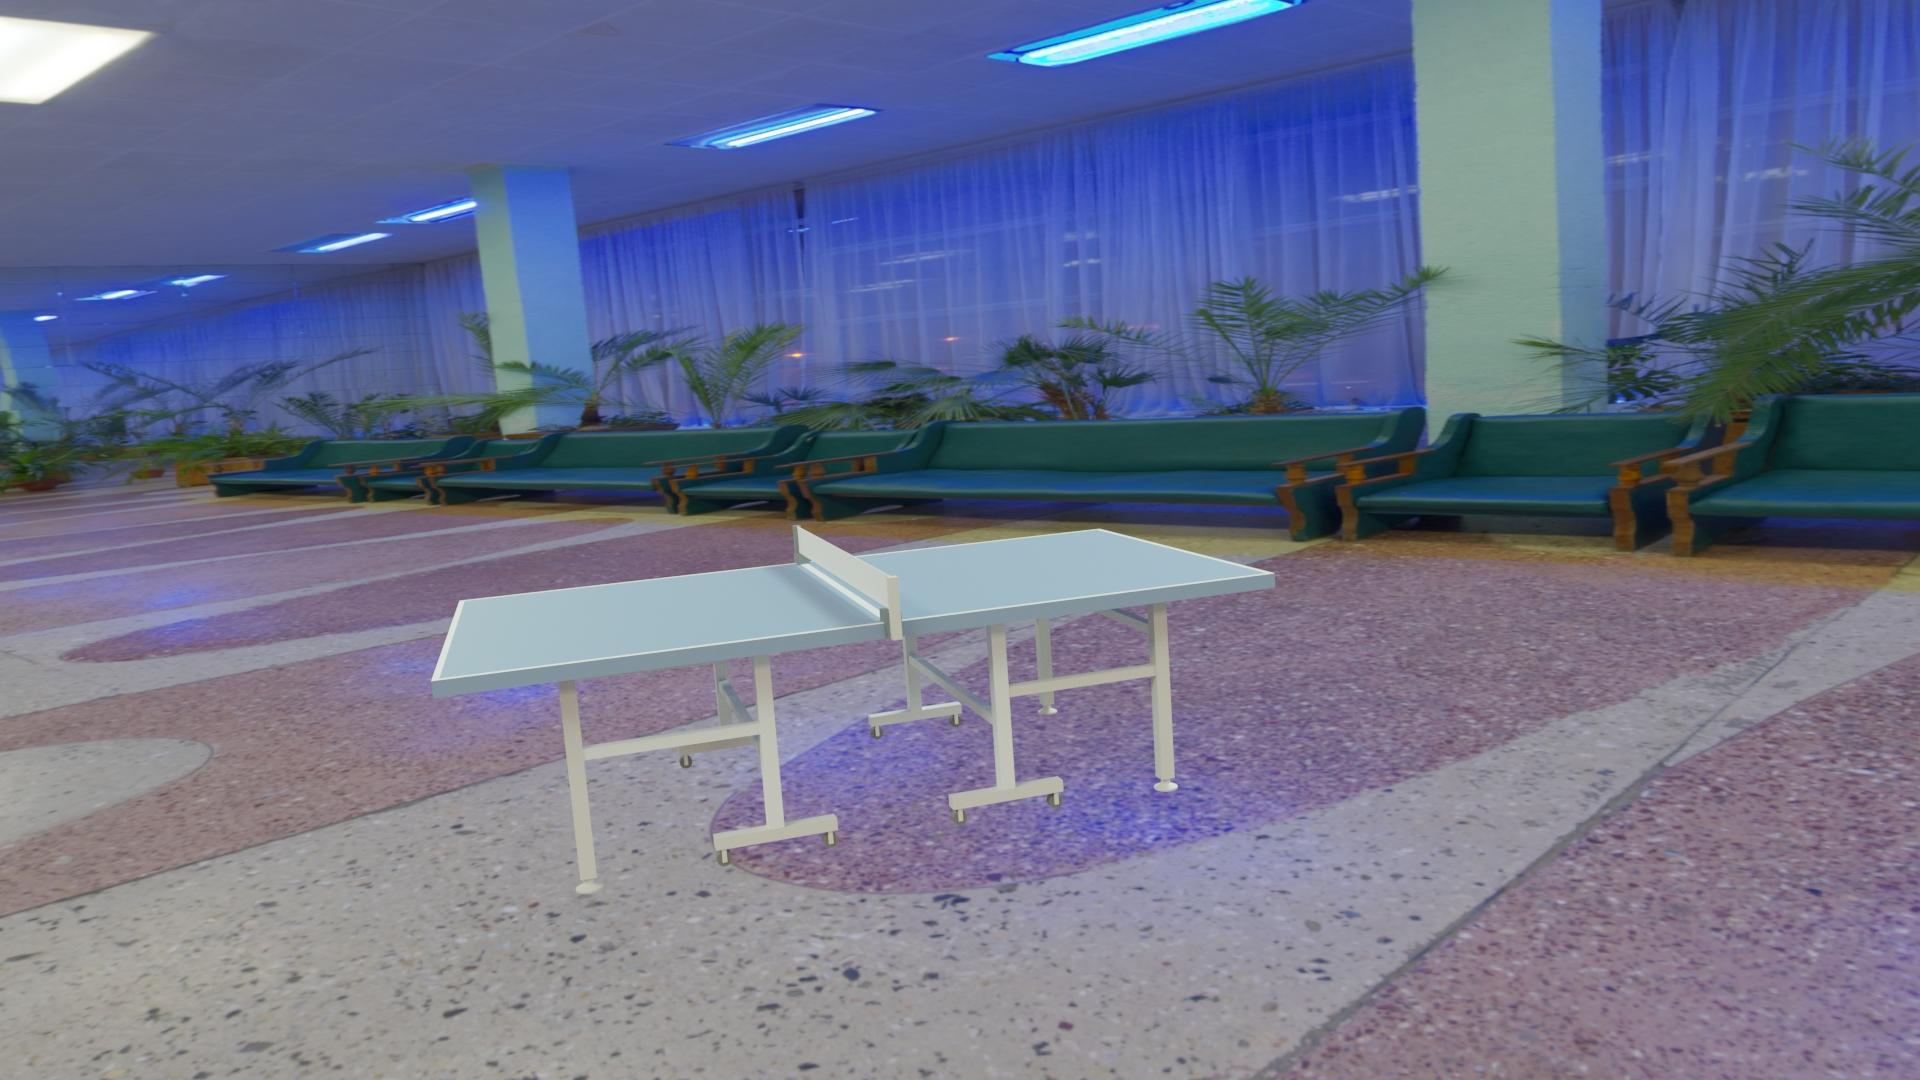table: (439, 530, 1266, 679)
